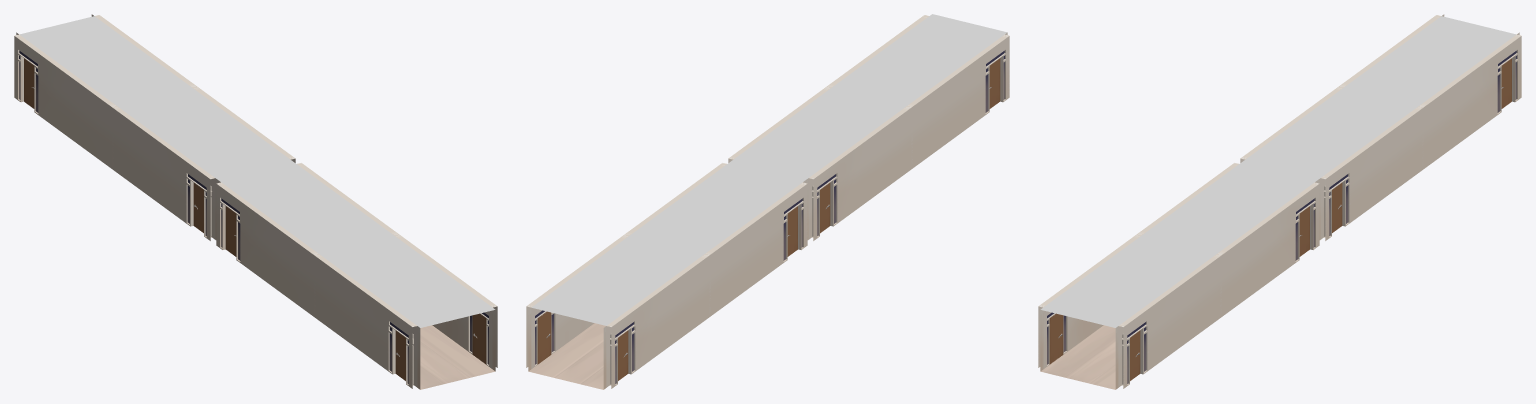
The model's file is corridor3.fbx.
3 views of the same model, side by side, from view 1: azimuth 30°, elevation 25°; view 2: azimuth 150°, elevation 25°; view 3: azimuth 330°, elevation 25° (orthographic).
Parts seen in each view (by area): view 1: ceiling.003, wall003.007, wall003.012, Plane.003, wall003.011, wall003.010, door.001, door.036, door.016, door.017, Cube.006; view 2: ceiling.003, wall003.012, wall003.007, wall003.010, Plane.003, wall003.011, door.013, Cube.006, door.036, door.016, door.017; view 3: ceiling.003, wall003.011, wall003.010, Plane.003, wall003.007, wall003.012, Cube.006, door.001, door.013, door.014, door.015.
Boxes of the visible parts, <box> form: ceiling.003: <box>19,16,495,327</box>; wall003.007: <box>216,180,420,389</box>; wall003.012: <box>14,32,218,240</box>; Plane.003: <box>420,325,494,389</box>; wall003.011: <box>297,163,497,371</box>; wall003.010: <box>91,14,295,162</box>; door.001: <box>472,313,486,364</box>; door.036: <box>225,206,236,256</box>; door.016: <box>24,58,34,108</box>; door.017: <box>193,183,203,232</box>; Cube.006: <box>395,330,405,380</box>; ceiling.003: <box>531,14,1006,325</box>; wall003.012: <box>603,180,807,389</box>; wall003.007: <box>805,32,1009,240</box>; wall003.010: <box>526,163,726,371</box>; Plane.003: <box>529,323,605,389</box>; wall003.011: <box>728,15,928,162</box>; door.013: <box>537,311,551,364</box>; Cube.006: <box>989,58,1000,108</box>; door.036: <box>820,183,830,233</box>; door.016: <box>618,330,628,380</box>; door.017: <box>787,206,797,256</box>; ceiling.003: <box>1040,16,1516,327</box>; wall003.011: <box>1115,180,1319,389</box>; wall003.010: <box>1317,32,1521,240</box>; Plane.003: <box>1041,325,1115,389</box>; wall003.007: <box>1038,163,1238,371</box>; wall003.012: <box>1240,14,1444,162</box>; Cube.006: <box>1049,313,1063,364</box>; door.001: <box>1130,330,1140,380</box>; door.013: <box>1501,58,1511,108</box>; door.014: <box>1332,183,1342,232</box>; door.015: <box>1299,206,1309,256</box>.
Bounding box in the file's own units: 170 × 118 × 1400.
Materials: 3 (3 with a texture image).
